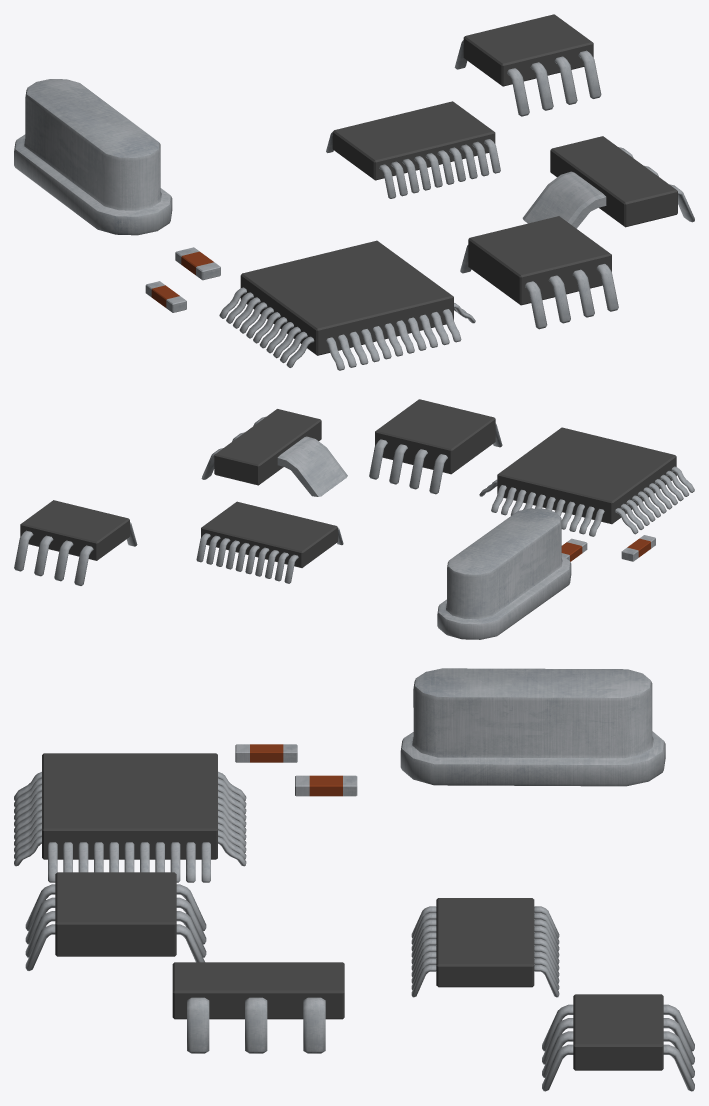
File: GalleryExportNo1.fbx
3 renders of one model, top to bottom at view 1: azimuth 30°, elevation 25°; view 2: azimuth 150°, elevation 25°; view 3: azimuth 270°, elevation 25°, orthographic. The views are drawn at different scales.
Visible parts, largest first — view 1: CylinderThingNew, LogicBoxSquare.003, LogicBoxSquare, LogicBoxSquare.001, LogicBoxSquareLong, LogicBoxSquare.002, ElectroLeg.005, ElectroLeg.006, ElectroLeg.003, ElectroLeg.002, ElectroLeg.004, ElectroLeg (+2 smaller); view 2: CylinderThingNew, LogicBoxSquare.003, LogicBoxSquare, LogicBoxSquare.001, LogicBoxSquareLong, LogicBoxSquare.002, ElectroLeg.002, ElectroLeg.006, ElectroLeg.003, ElectroLeg.005, ElectroLeg.004, ElectroLeg (+2 smaller); view 3: CylinderThingNew, LogicBoxSquare.003, LogicBoxSquare, LogicBoxSquare.001, LogicBoxSquareLong, LogicBoxSquare.002, ElectroLeg.005, ElectroLeg.001, ElectroLeg.006, ElectroLeg.003, ElectroLeg.004, ElectroLeg (+2 smaller).
Part boxes in pixels (<box>): CylinderThingNew: <box>14,79,172,235</box>; LogicBoxSquare.003: <box>240,240,453,355</box>; LogicBoxSquare: <box>468,216,611,305</box>; LogicBoxSquare.001: <box>332,101,495,180</box>; LogicBoxSquareLong: <box>550,136,677,227</box>; LogicBoxSquare.002: <box>463,14,593,86</box>; ElectroLeg.005: <box>240,297,461,370</box>; ElectroLeg.006: <box>219,287,475,367</box>; ElectroLeg.003: <box>326,132,500,198</box>; ElectroLeg.002: <box>522,171,606,228</box>; ElectroLeg.004: <box>454,40,601,116</box>; ElectroLeg: <box>460,245,618,329</box>; CylinderThingNew: <box>437,508,571,639</box>; LogicBoxSquare.003: <box>497,427,676,524</box>; LogicBoxSquare: <box>375,399,495,474</box>; LogicBoxSquare.001: <box>201,501,337,567</box>; LogicBoxSquareLong: <box>214,409,321,485</box>; LogicBoxSquare.002: <box>20,500,129,560</box>; ElectroLeg.002: <box>277,436,347,496</box>; ElectroLeg.006: <box>479,466,694,534</box>; ElectroLeg.003: <box>196,527,343,583</box>; ElectroLeg.005: <box>491,474,677,536</box>; ElectroLeg.004: <box>14,522,137,585</box>; ElectroLeg: <box>369,423,502,494</box>; CylinderThingNew: <box>400,668,665,786</box>; LogicBoxSquare.003: <box>42,753,217,859</box>; LogicBoxSquare: <box>55,872,176,956</box>; LogicBoxSquare.001: <box>436,898,534,987</box>; LogicBoxSquareLong: <box>172,962,344,1019</box>; LogicBoxSquare.002: <box>573,994,663,1070</box>; ElectroLeg.005: <box>14,771,246,866</box>; ElectroLeg.001: <box>187,997,325,1053</box>; ElectroLeg.006: <box>48,842,210,882</box>; ElectroLeg.003: <box>411,906,559,997</box>; ElectroLeg.004: <box>542,1004,694,1091</box>; ElectroLeg: <box>25,884,206,970</box>.
Size of the model in its own units: 39.53 by 7.22 by 35.8.
